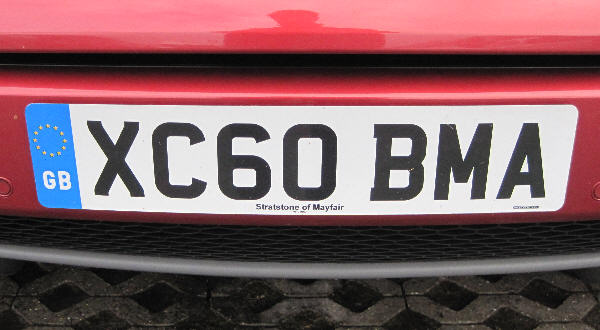license_plate: (22, 102, 580, 217)
